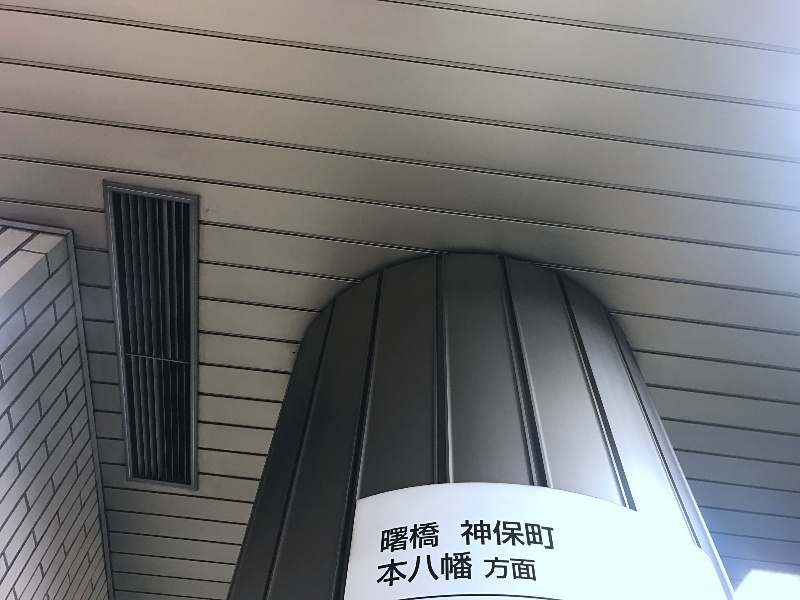text: (385, 545, 400, 589), (401, 545, 416, 589), (417, 545, 432, 589), (433, 545, 448, 589), (449, 545, 464, 589), (465, 545, 480, 589), (481, 545, 496, 589), (497, 545, 512, 589), (513, 545, 528, 589), (385, 521, 400, 554), (401, 521, 416, 554), (417, 521, 432, 554), (465, 519, 480, 551), (481, 519, 496, 551), (497, 519, 512, 551), (513, 519, 528, 551), (529, 519, 544, 551), (529, 545, 538, 589), (545, 519, 556, 551), (433, 521, 440, 554), (379, 545, 384, 589), (460, 519, 464, 551), (381, 521, 384, 554)
